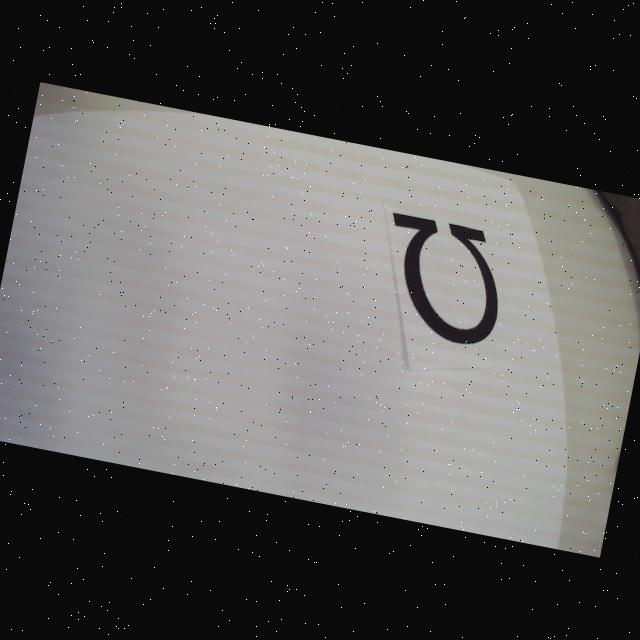OMEGA: (371, 211, 514, 350)
